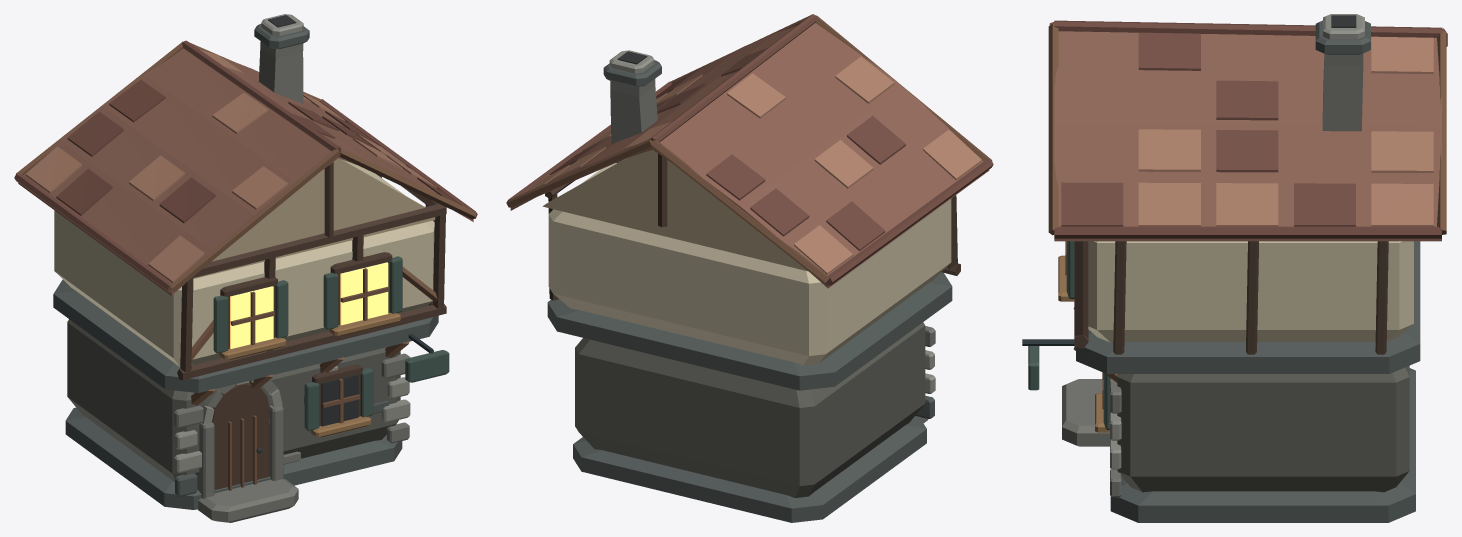
The model's file is BLD_V3_Jetty_Townhouse.glb.
The picture shows the model from 3 angles, left to right: view 1: azimuth 30°, elevation 25°; view 2: azimuth 150°, elevation 25°; view 3: azimuth 270°, elevation 25°; orthographic projection. The views are drawn at different scales.
Parts seen in each view (by area): view 1: BLD_V3_Jetty_Townhouse; view 2: BLD_V3_Jetty_Townhouse; view 3: BLD_V3_Jetty_Townhouse.
Boxes of the visible parts, box(x1,y1,x2,y2) form: BLD_V3_Jetty_Townhouse: box(14, 14, 477, 522); BLD_V3_Jetty_Townhouse: box(506, 14, 993, 522); BLD_V3_Jetty_Townhouse: box(1022, 14, 1447, 522).
Size of the model in its own units: 3.56 by 4.2 by 3.34.
